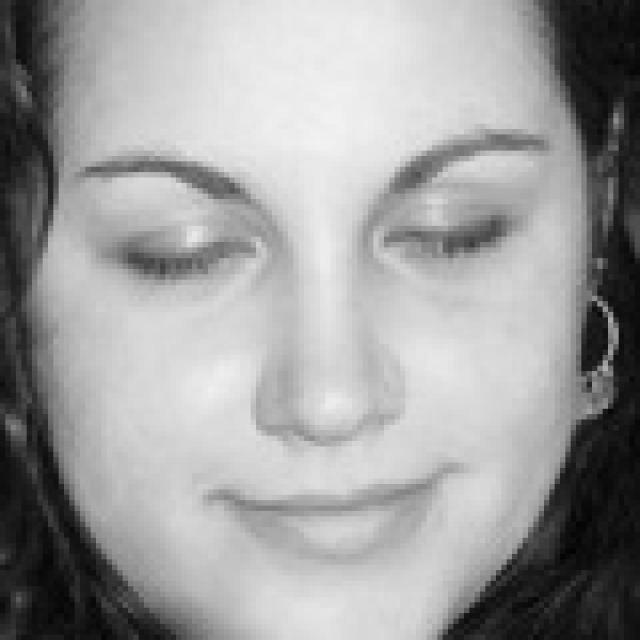real: (0, 15, 621, 640), (88, 153, 532, 294)
